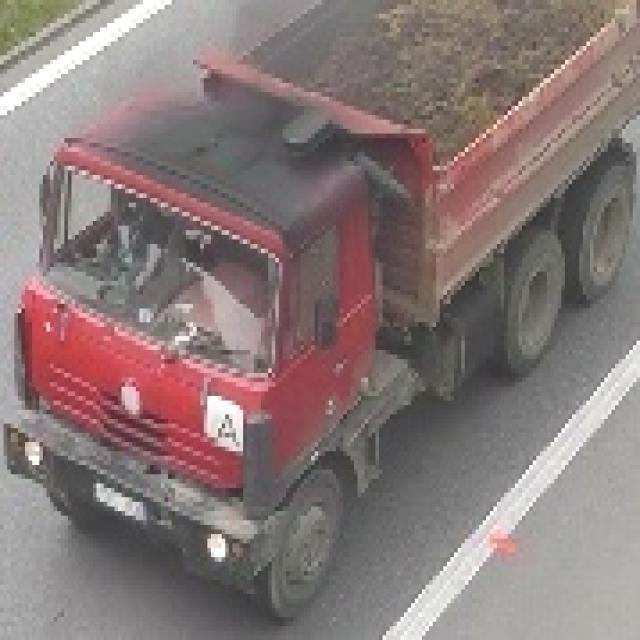truck: (1, 1, 637, 613)
